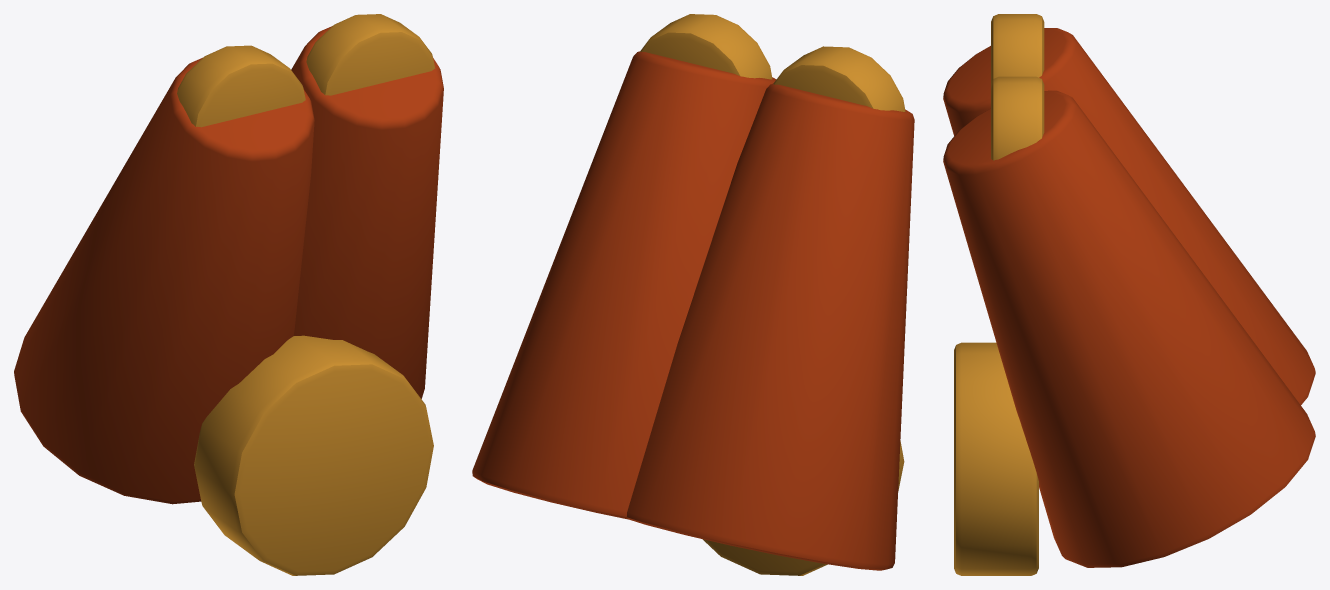
The model's file is MortarA2.obj.
3 renders of one model, left to right at view 1: azimuth 30°, elevation 25°; view 2: azimuth 150°, elevation 25°; view 3: azimuth 270°, elevation 25°, orthographic. The views are drawn at different scales.
Visible parts, largest first — view 1: MortarA2; view 2: MortarA2; view 3: MortarA2.
Boxes of the visible parts, x1,y1,x2,y2 form: MortarA2: (14,14,443,575); MortarA2: (472,14,914,575); MortarA2: (943,14,1315,575).
Bounding box in the file's own units: 0.8113 × 1.07 × 0.7023.
